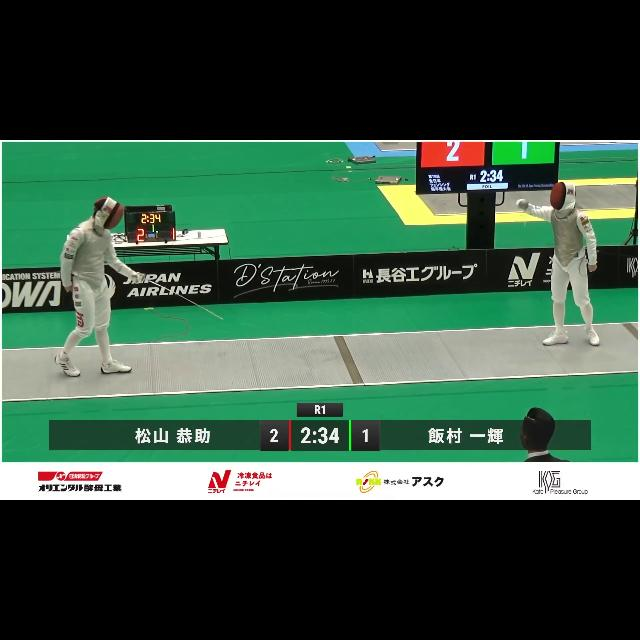blade: (130, 265, 234, 325), (516, 195, 532, 232)
